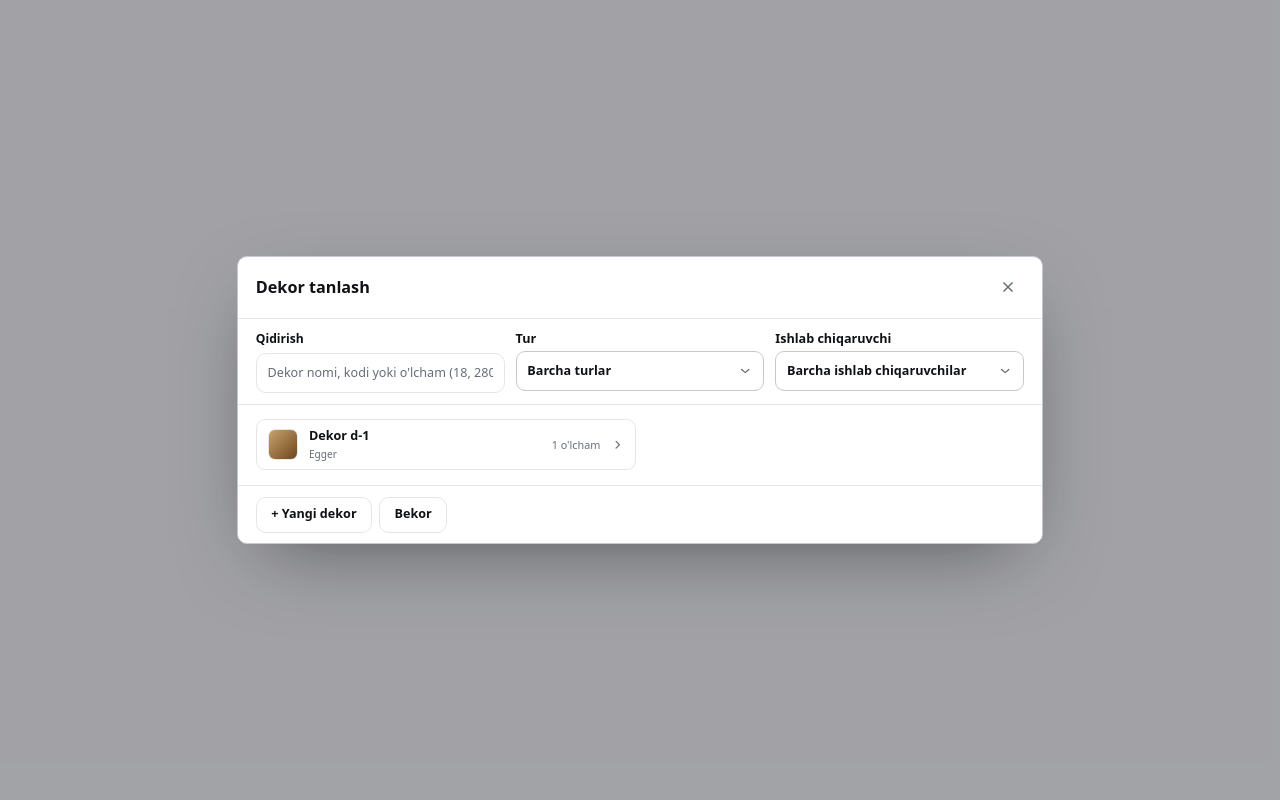
BranchMaterialAttachSheet — «+ Boshqa o‘lcham», merged in silence › adds a kromka to a board decor — the type belongs to the format
Click the button "Dekor d-1 Egger 1 o'lcham" at (283, 445), box [256, 419, 636, 470]
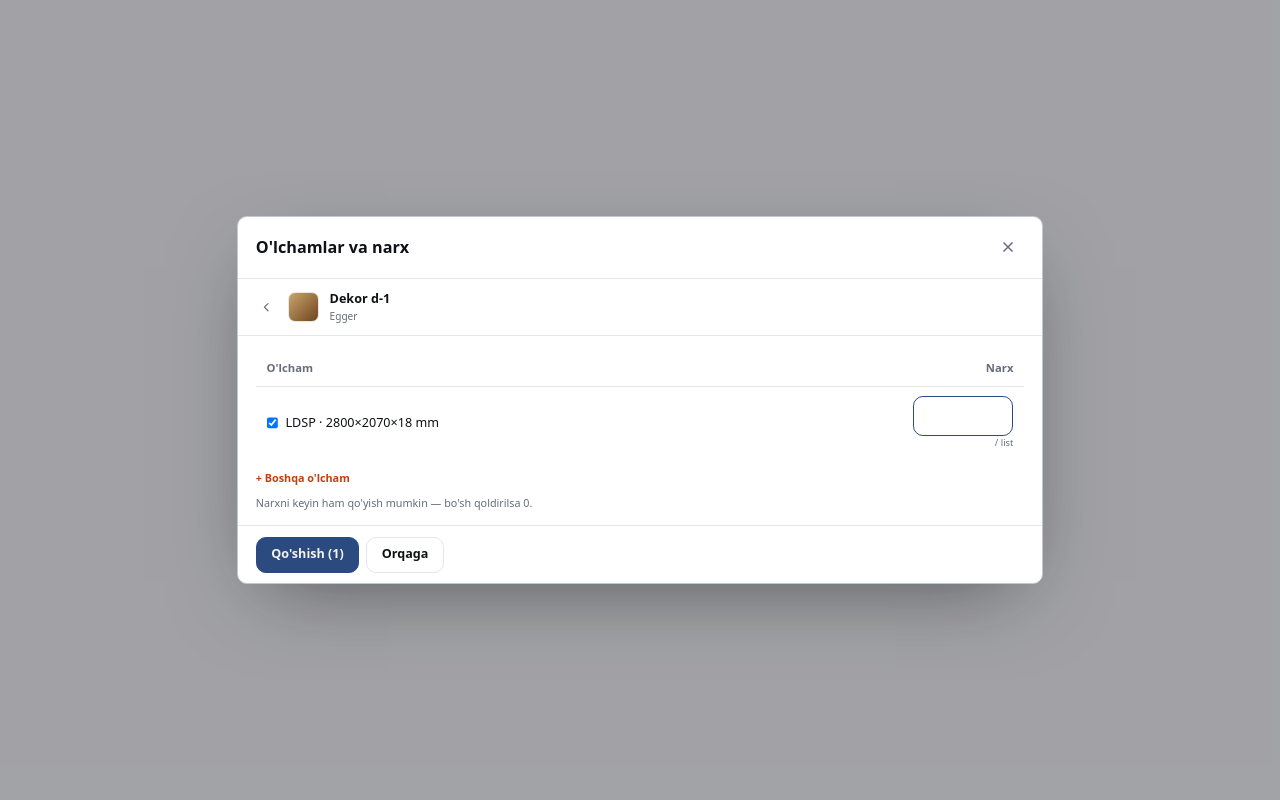
Click the button "+ Boshqa o'lcham" at (303, 478), box [256, 471, 350, 485]
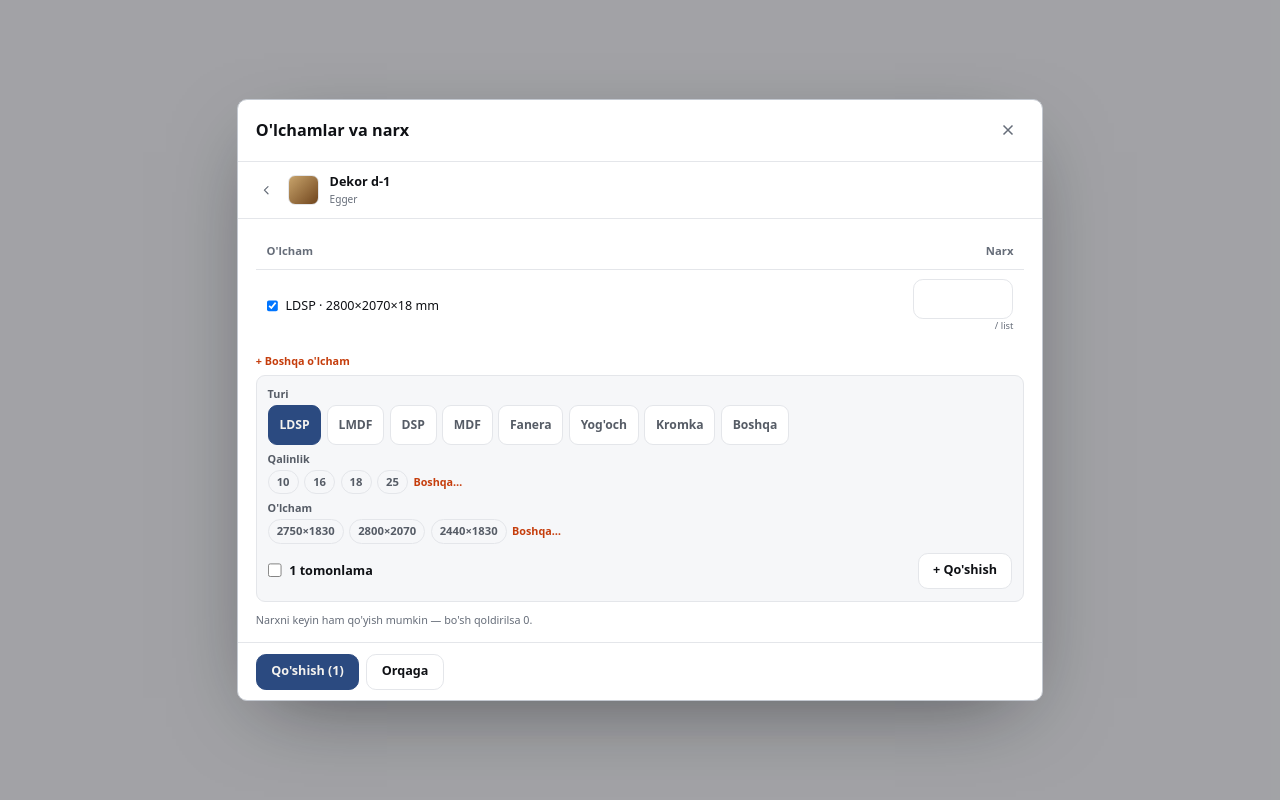
Click the radio button labelled "Kromka" at (680, 425), box [644, 405, 715, 445]
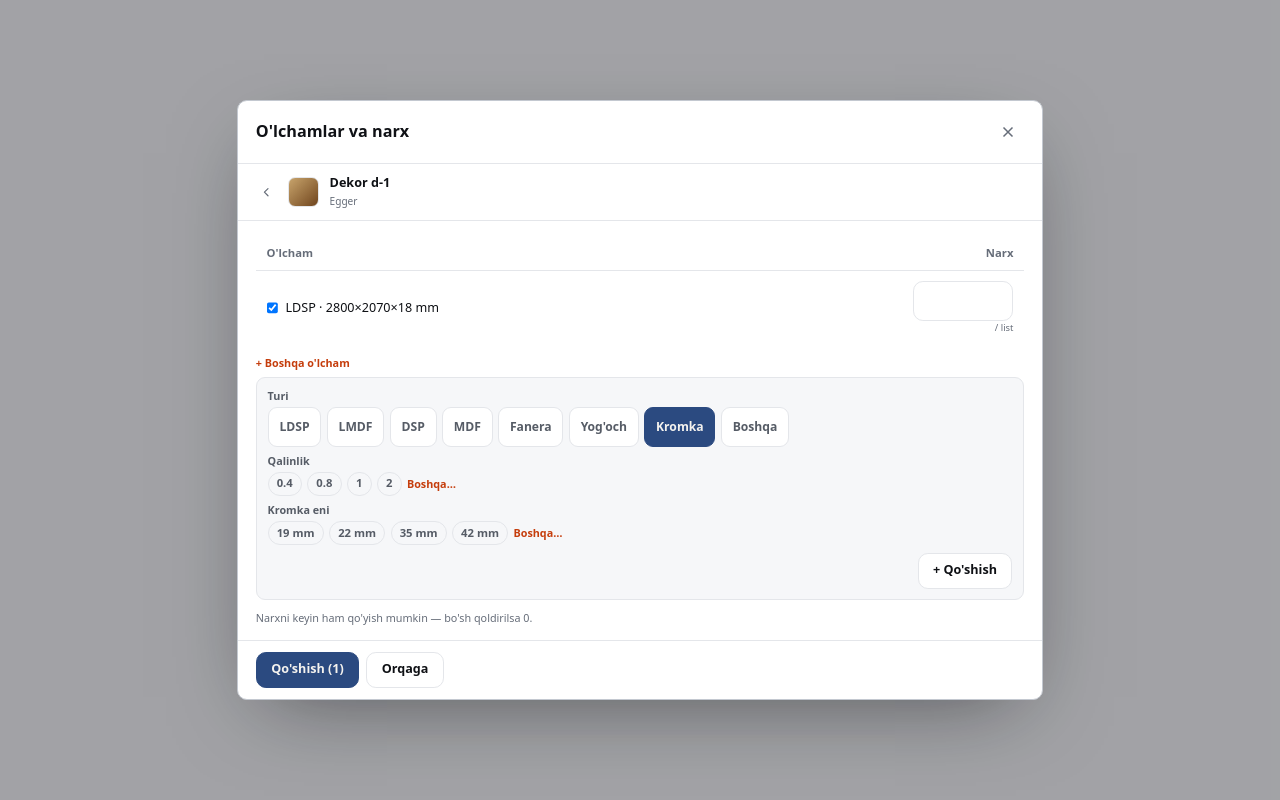
Click the button with class "mp-chip" showing "0.8" at (324, 484), box [307, 472, 342, 496]
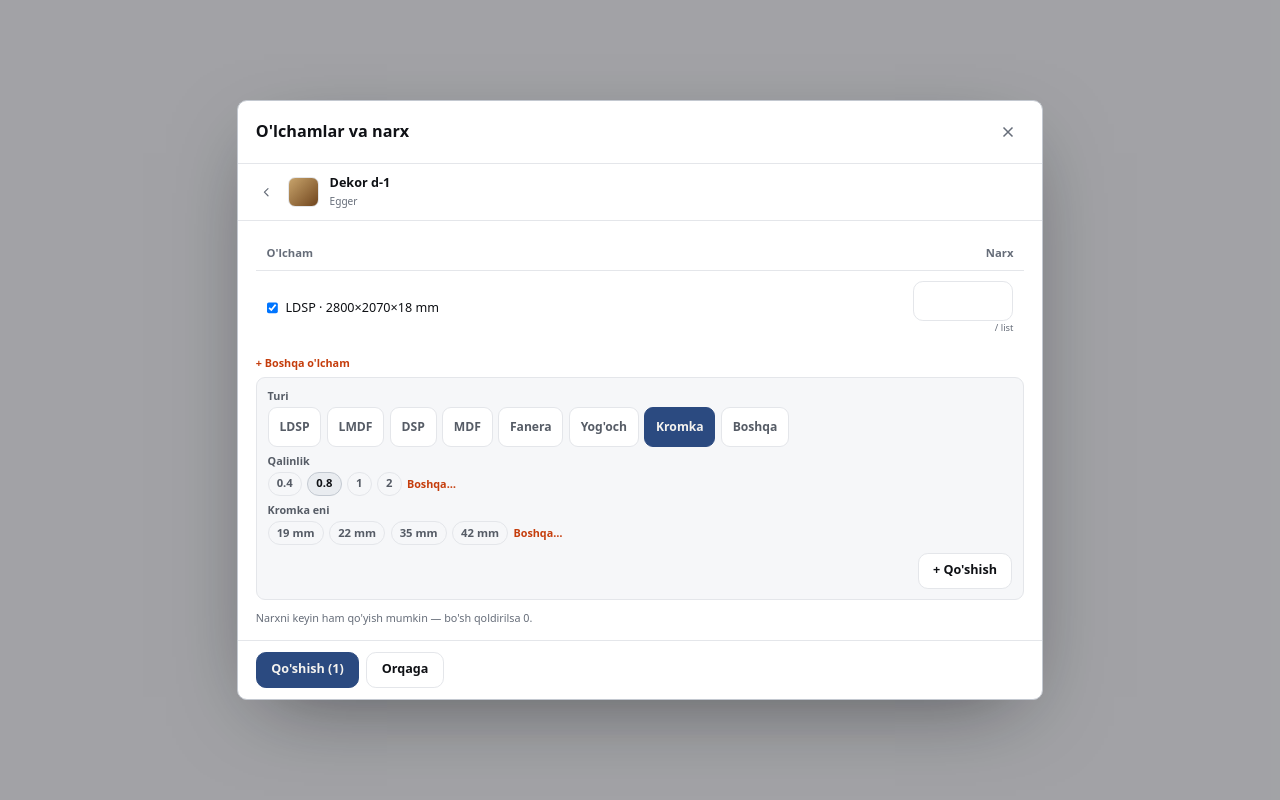
Click the button with class "mp-chip" showing "22 mm" at (357, 533), box [329, 521, 385, 545]
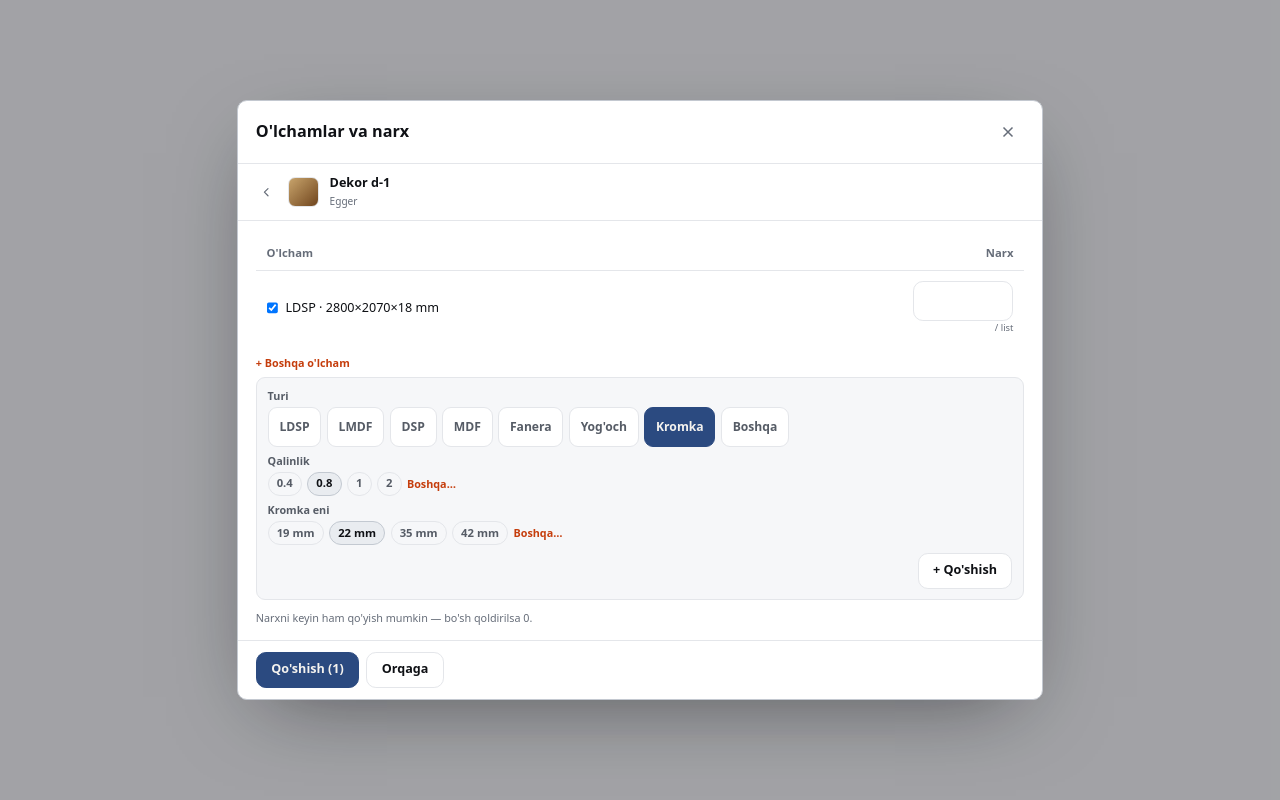
Click the button "+ Qo'shish" at (965, 571), box [918, 553, 1012, 589]
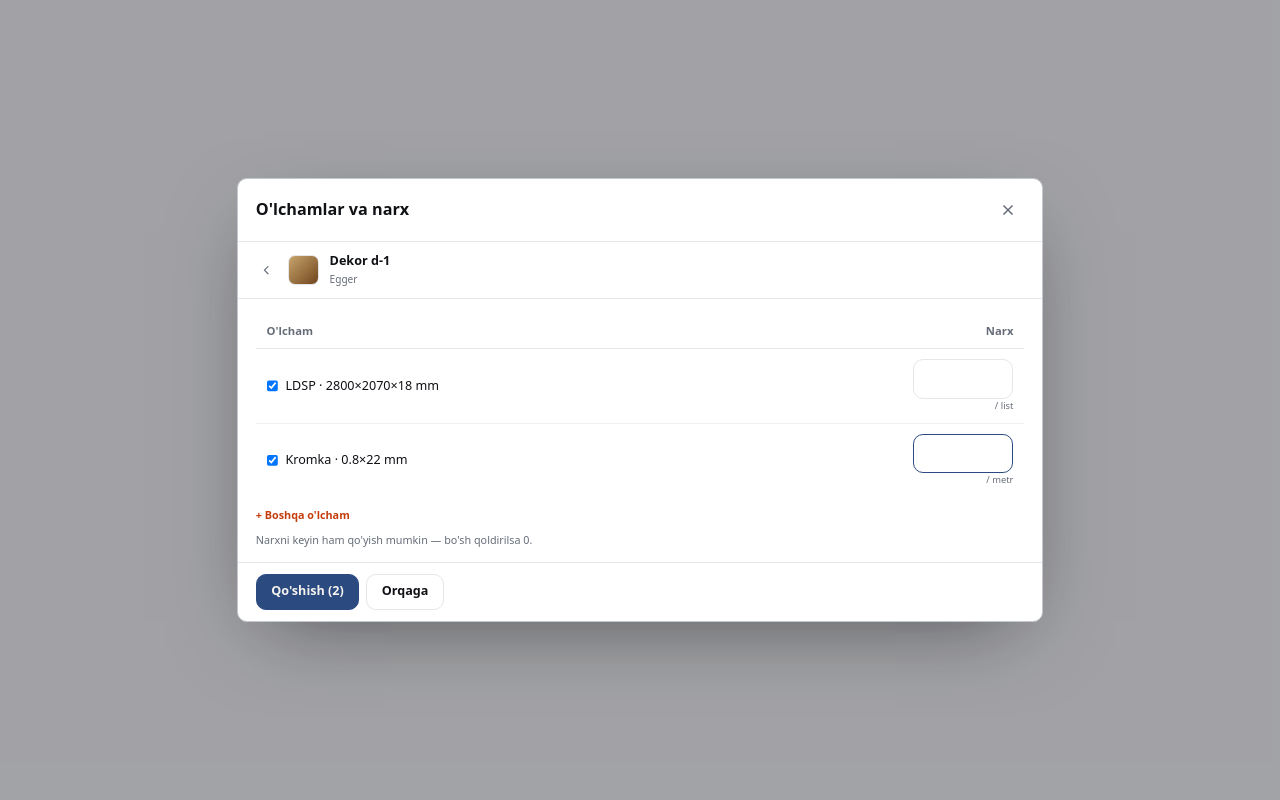
Now the row "Kromka · 0.8×22 mm / metr" is shown, box [256, 423, 1024, 497]
